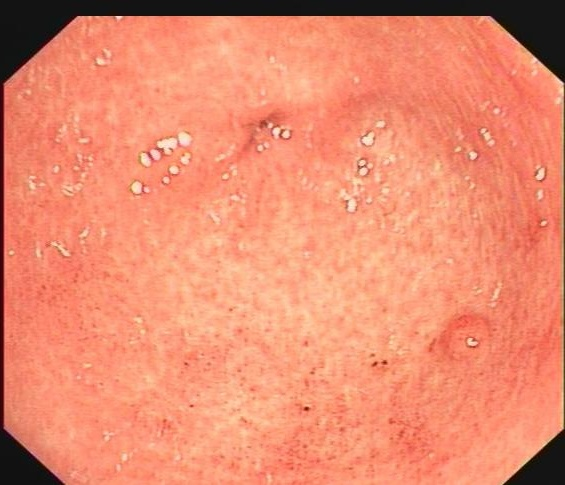Polyp: (433, 308, 506, 371)
